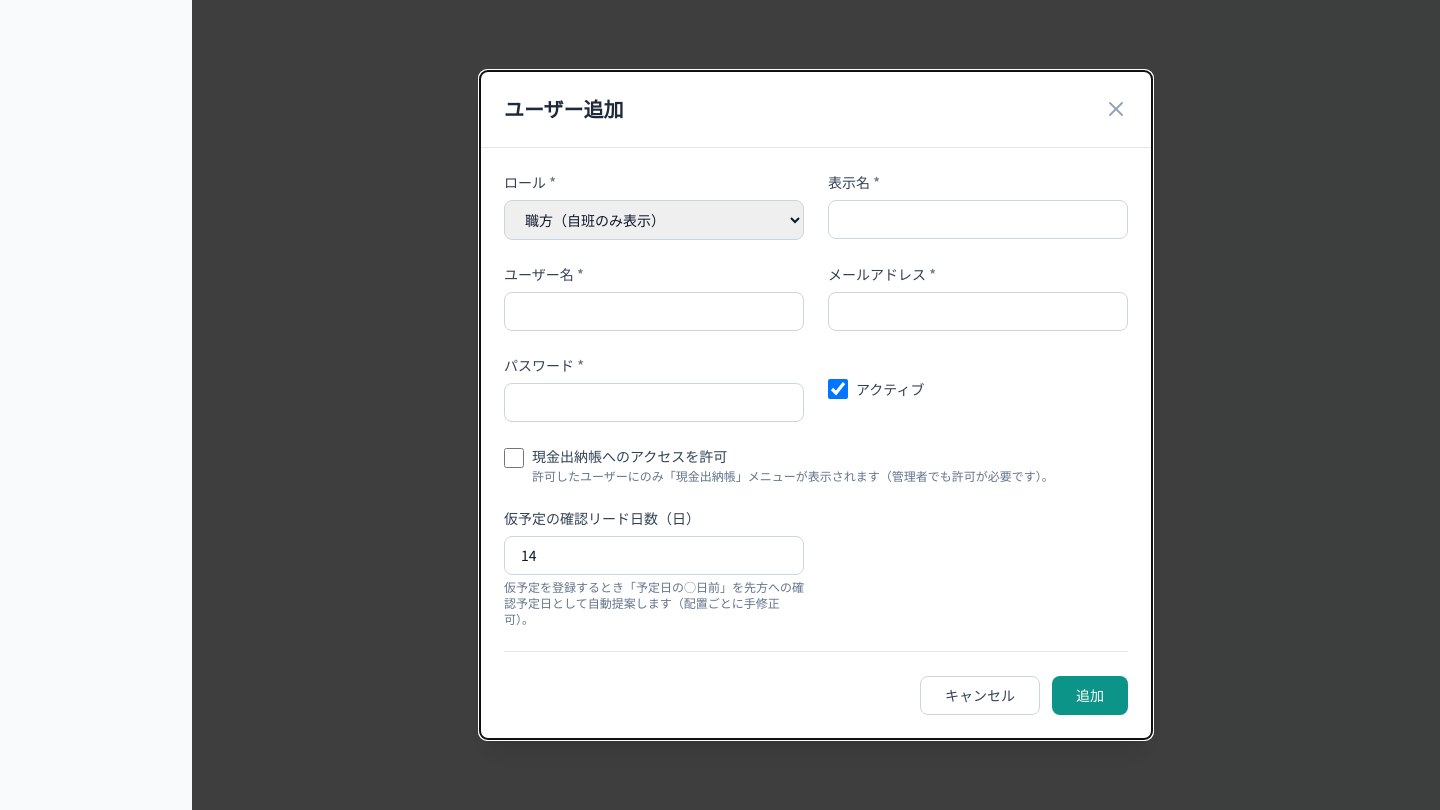
Scenario: UserModal › should display error message on failure
The image size is (1440, 810).
Note: Fill required fields to bypass HTML validation
Type "newuser" into the field labelled "ユーザー名 *" at (654, 312), box [504,292,804,331]
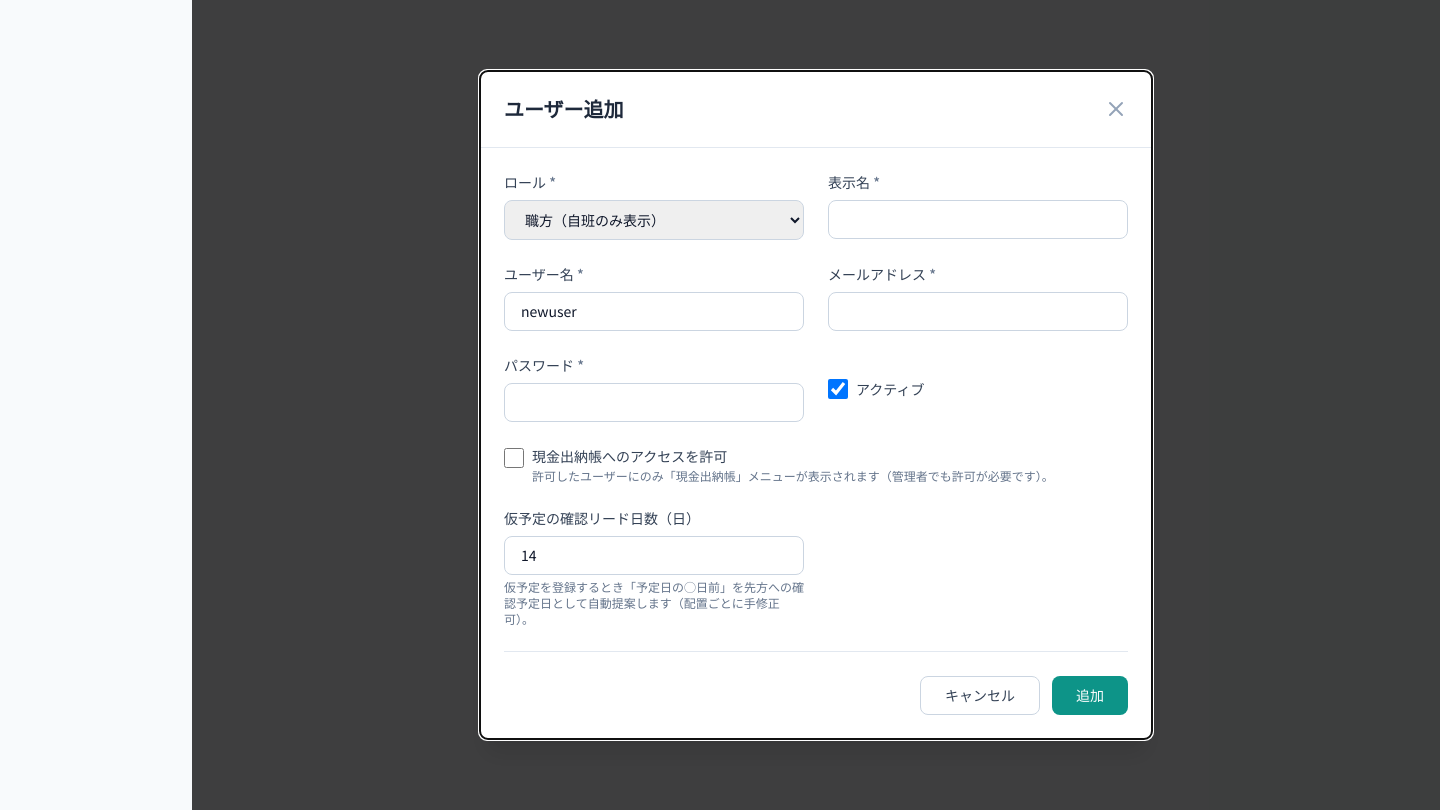
Type "a@b.com" into the field labelled "メールアドレス *" at (978, 312), box [828,292,1128,331]
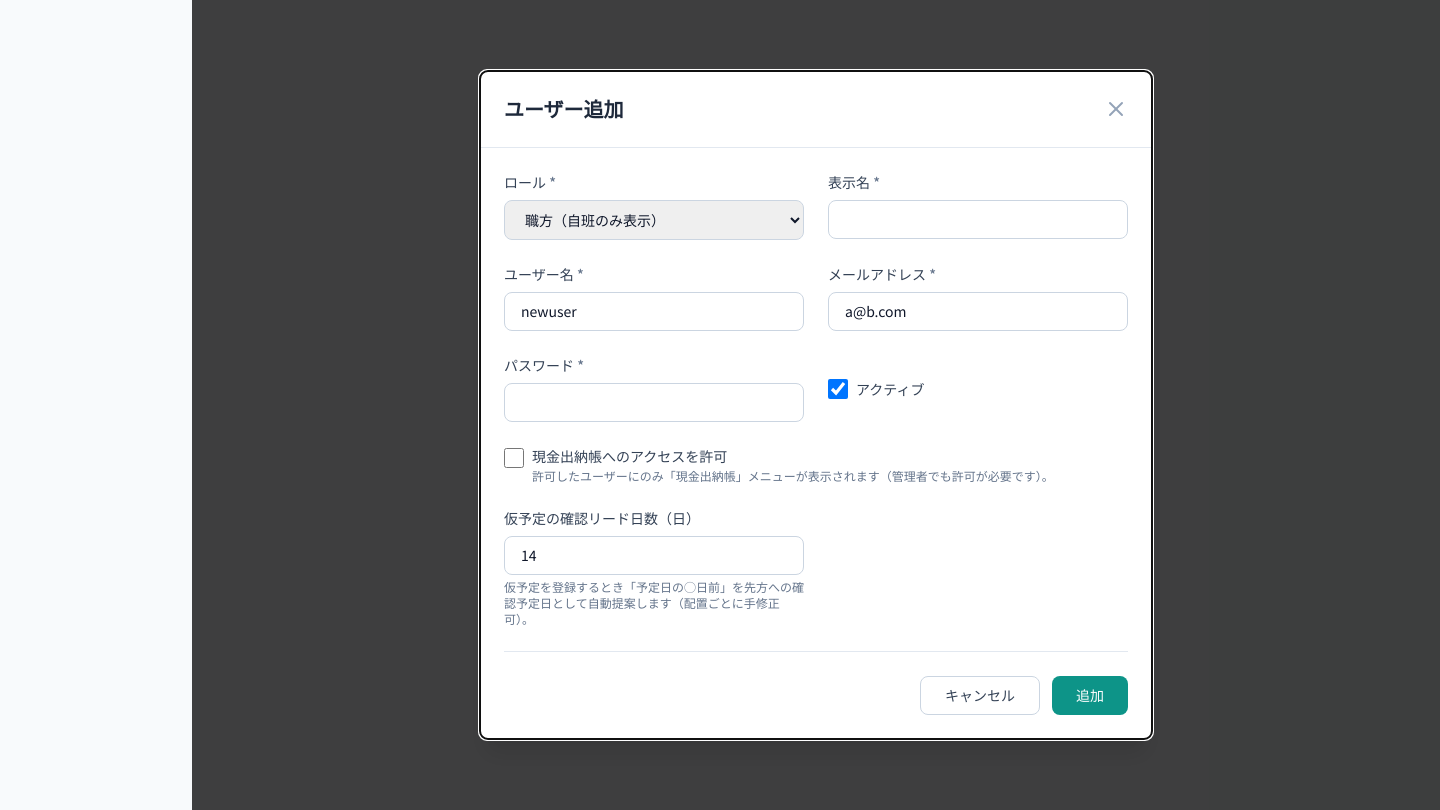
Type "A" into the field labelled "表示名 *" at (978, 220), box [828,200,1128,239]
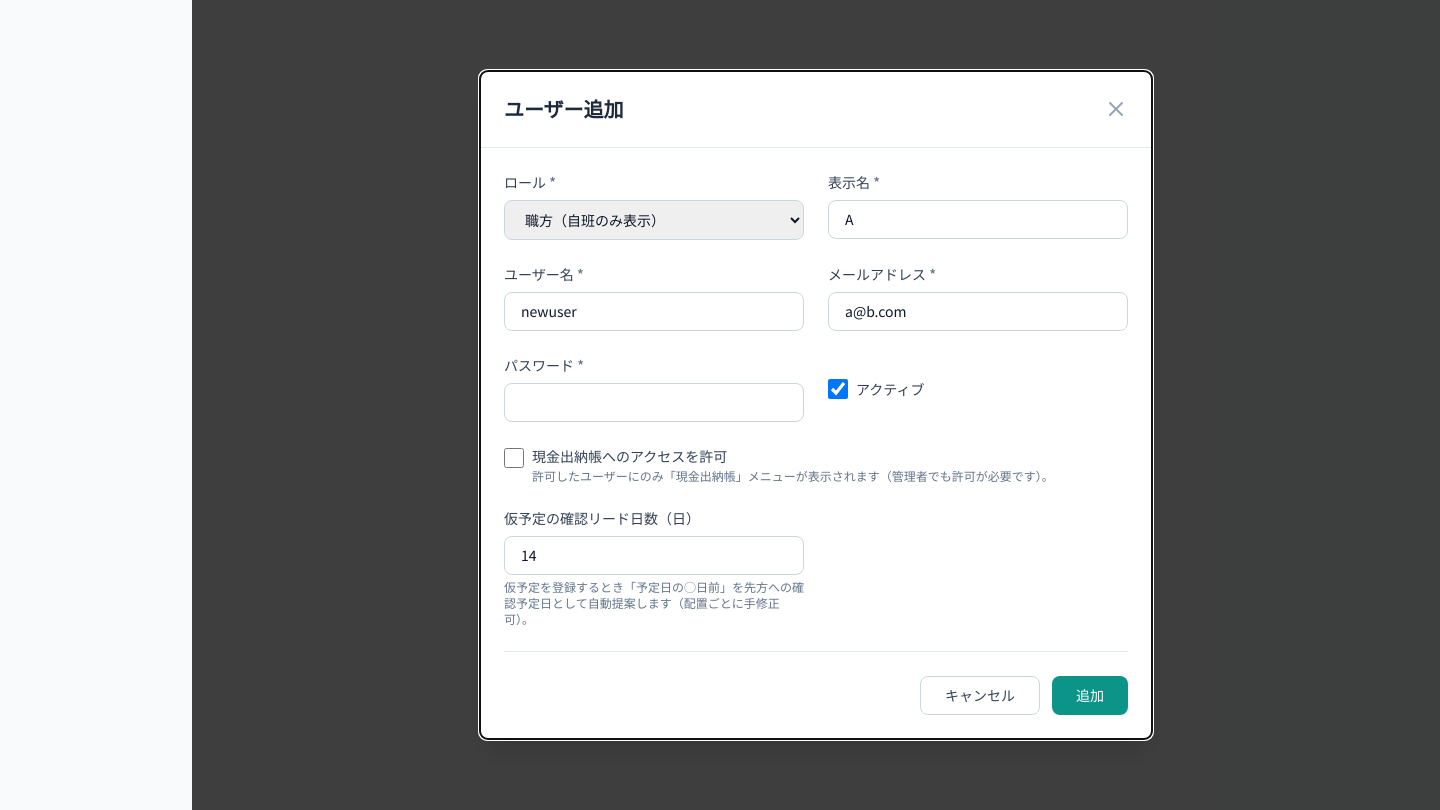
Type "p" into the password field labelled "パスワード *" at (654, 402), box [504,383,804,422]
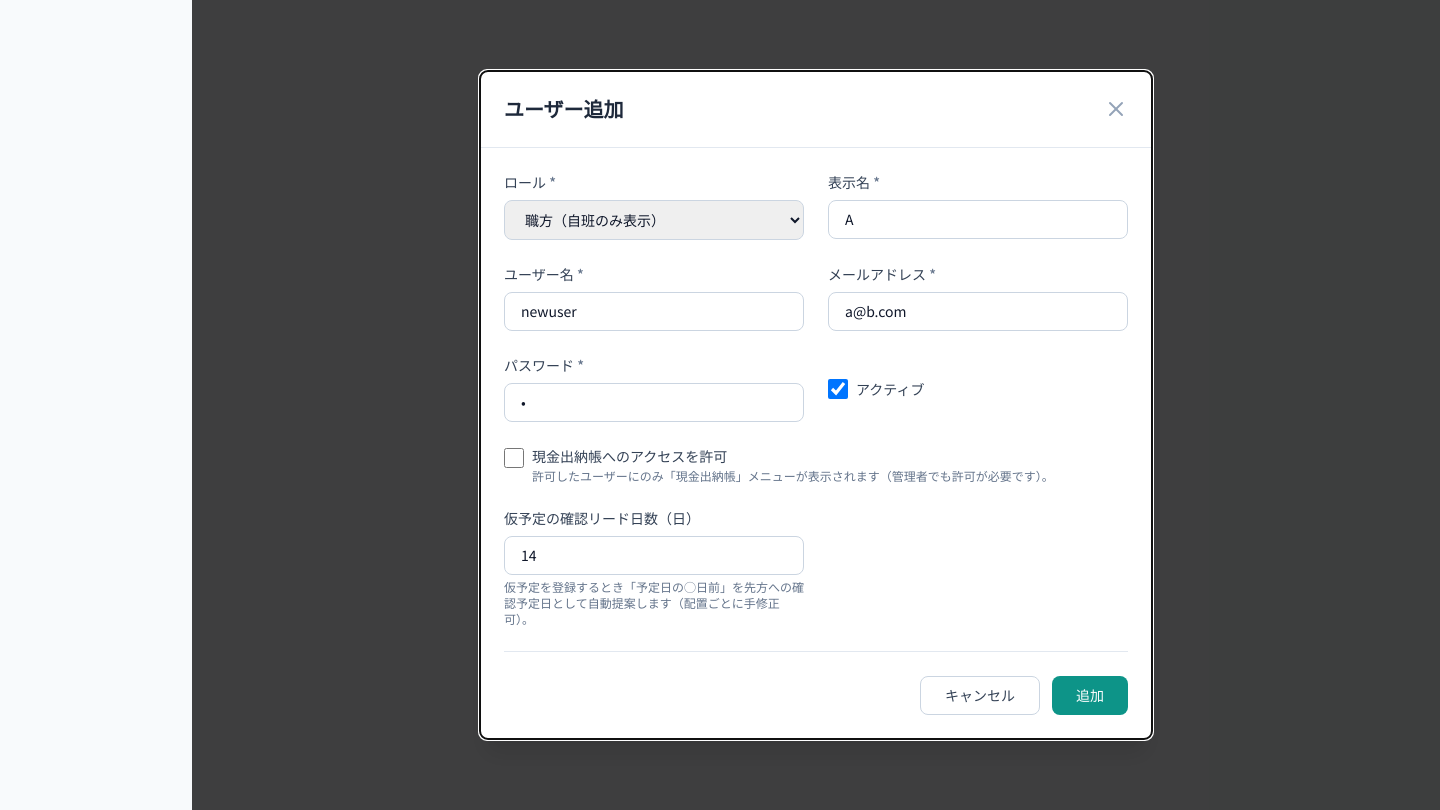
Click the button "追加" at (1090, 696), box [1052,676,1128,715]
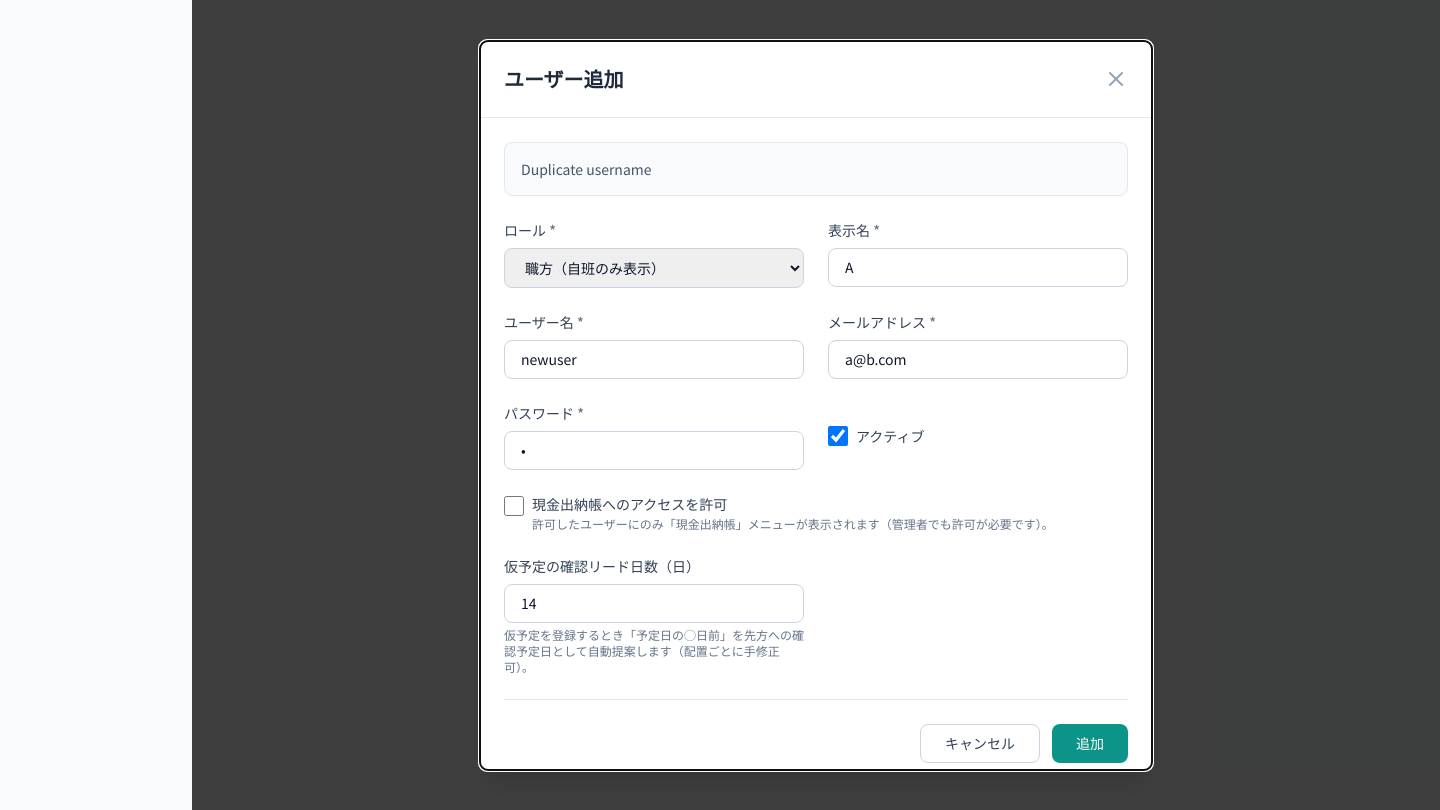
Expected: the text "Duplicate username" is shown, [521,158,652,178]
